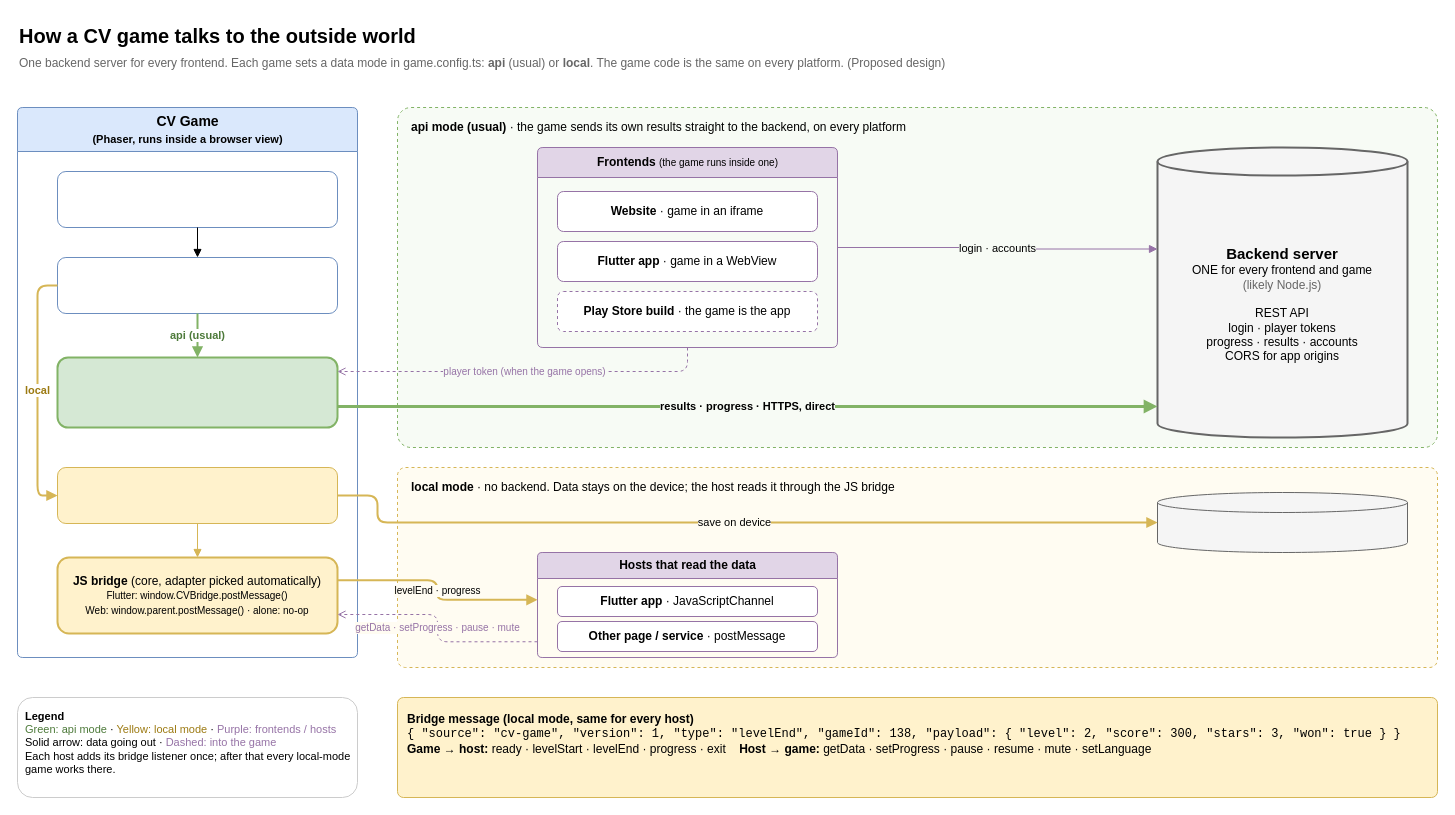
Image size: 1455x815. Some labels were removed from this diagram. The centre of each missing label's shape, as x and y in pixels:
"API client (core) fetch() · player token · offline queue" goes at [197,392].
"Core (src/core) level start / end · progress · settings" goes at [197,285].
"Device storage browser localStorage" goes at [1282,522].
"Gameplay (src/game) ctx.win() · ctx.lose() · ctx.setHud()" goes at [197,199].
"Local storage (core) keys cv_game_<gameId>_*" goes at [197,495].
